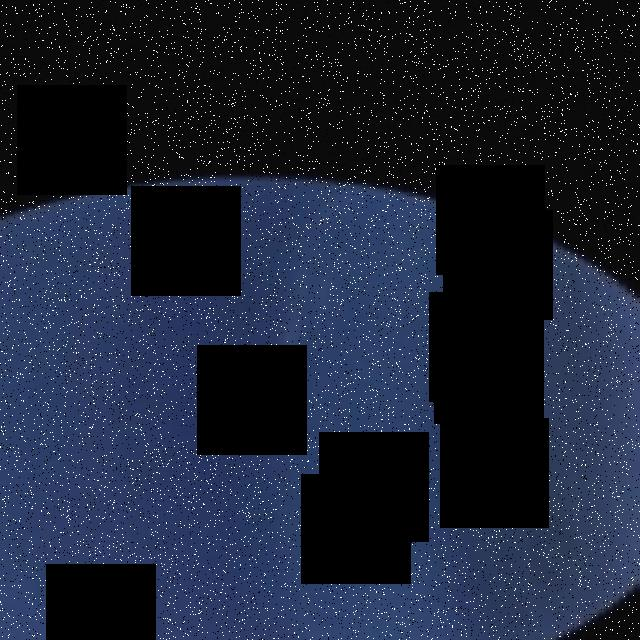Neptune: (0, 176, 640, 640)
